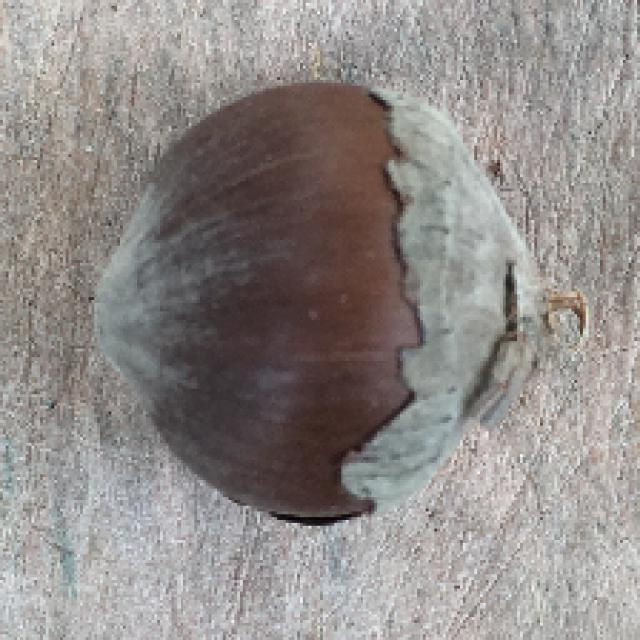damagedHazelnut: (97, 80, 563, 529)
